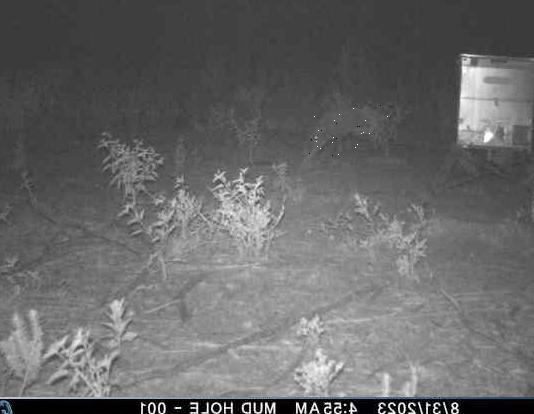Hog: (306, 104, 393, 159)
